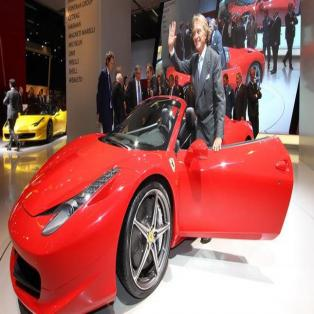Auto: (9, 100, 294, 312)
